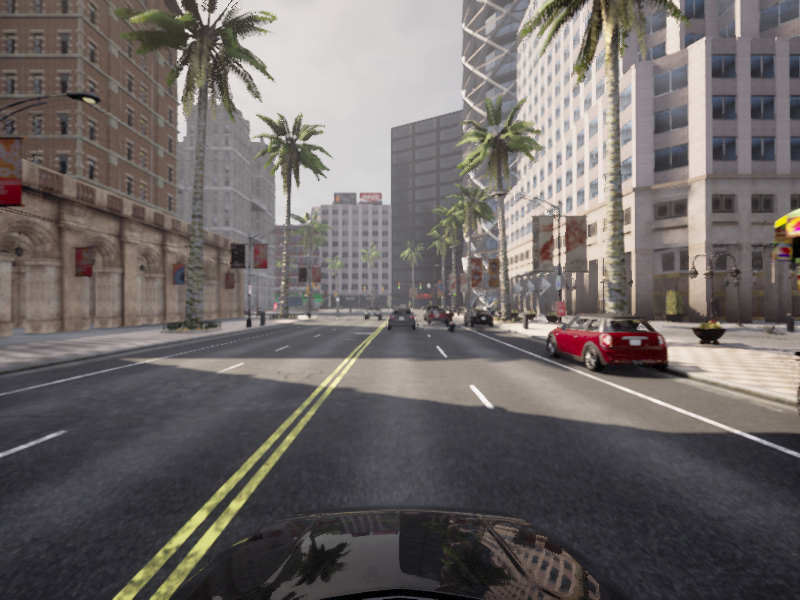vehicle: (387, 307, 416, 329), (425, 307, 449, 324), (443, 308, 457, 332), (391, 306, 412, 321), (423, 304, 441, 321), (363, 304, 382, 320)
